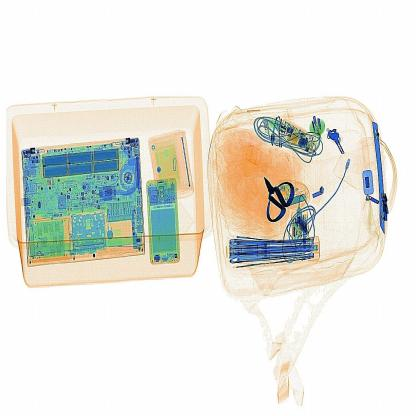gun: (253, 159, 301, 234)
